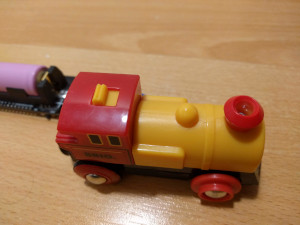brio: (55, 65, 267, 207)
